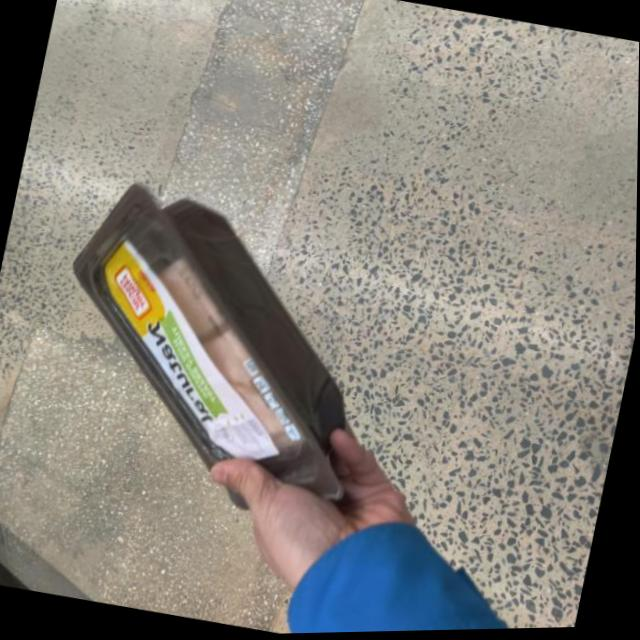Meat: (5, 142, 424, 560)
